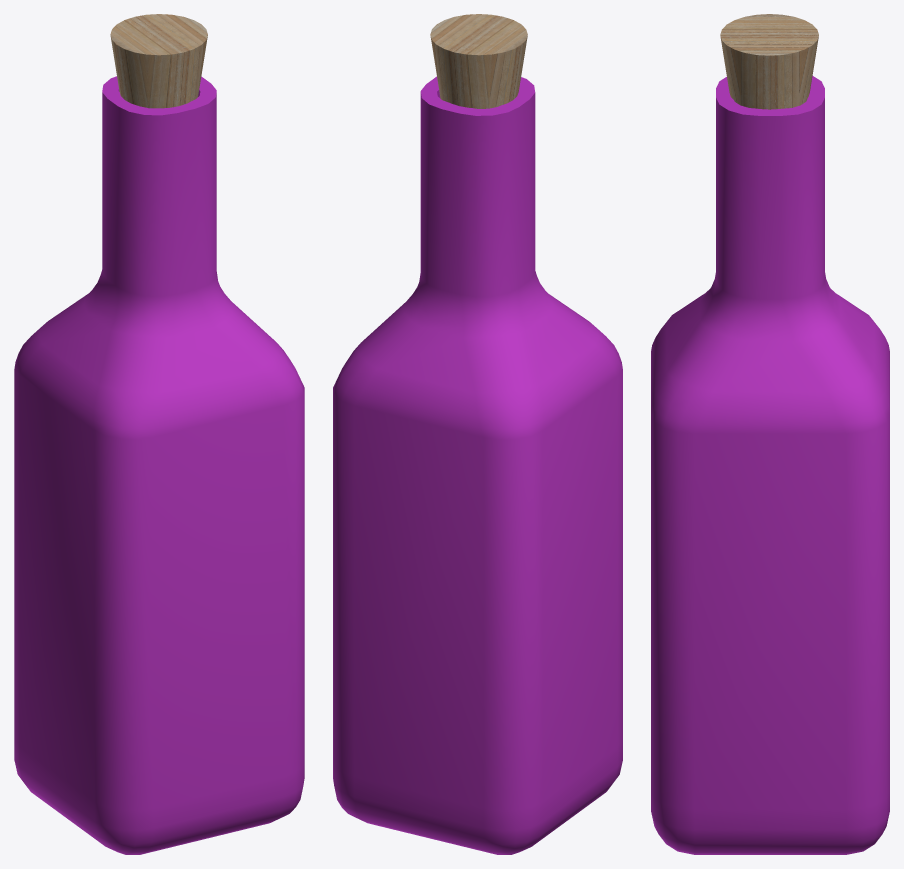
The model's file is bottle.fbx.
3 views of the same model, side by side, from view 1: azimuth 30°, elevation 25°; view 2: azimuth 150°, elevation 25°; view 3: azimuth 270°, elevation 25° (orthographic).
Parts seen in each view (by area): view 1: Plane.029, Circle.048; view 2: Plane.029, Circle.048; view 3: Plane.029, Circle.048.
Part boxes in pixels (<box>): Plane.029: <box>14,76,304,854</box>; Circle.048: <box>110,14,207,108</box>; Plane.029: <box>333,76,622,854</box>; Circle.048: <box>430,14,527,108</box>; Plane.029: <box>651,76,889,854</box>; Circle.048: <box>720,14,818,109</box>.
Size of the model in its own units: 7.83 by 28.33 by 7.83.
